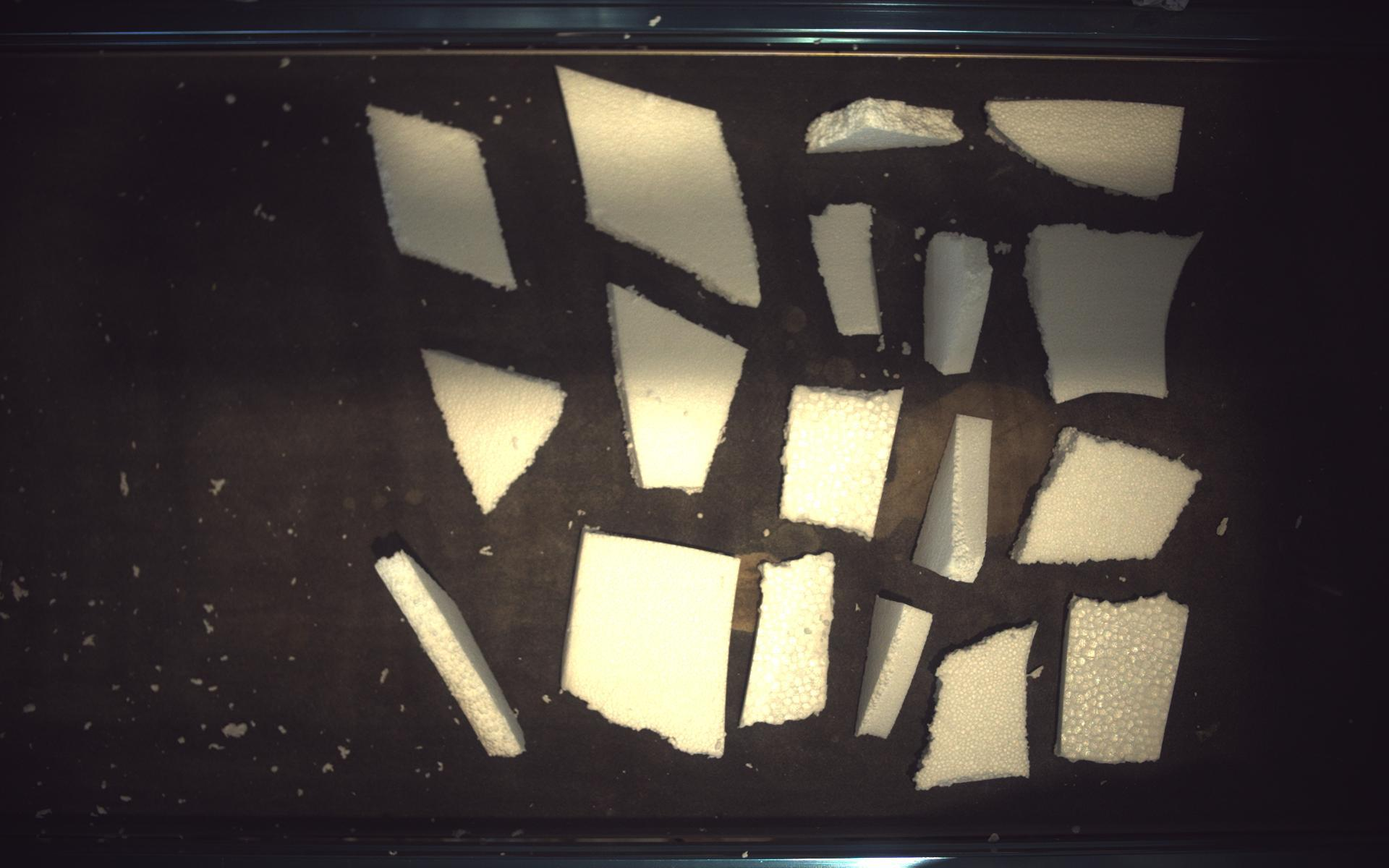foam: (560, 66, 762, 306), (563, 531, 740, 758), (564, 532, 739, 759), (371, 548, 525, 757), (1027, 224, 1204, 403), (609, 283, 747, 493), (367, 105, 517, 289), (1014, 427, 1203, 565), (422, 349, 566, 514), (1058, 593, 1192, 765), (917, 623, 1040, 791), (987, 98, 1187, 198), (782, 386, 905, 540), (742, 553, 836, 727), (914, 414, 994, 584), (857, 596, 935, 739), (925, 231, 995, 375), (811, 202, 883, 336), (807, 96, 966, 153)
